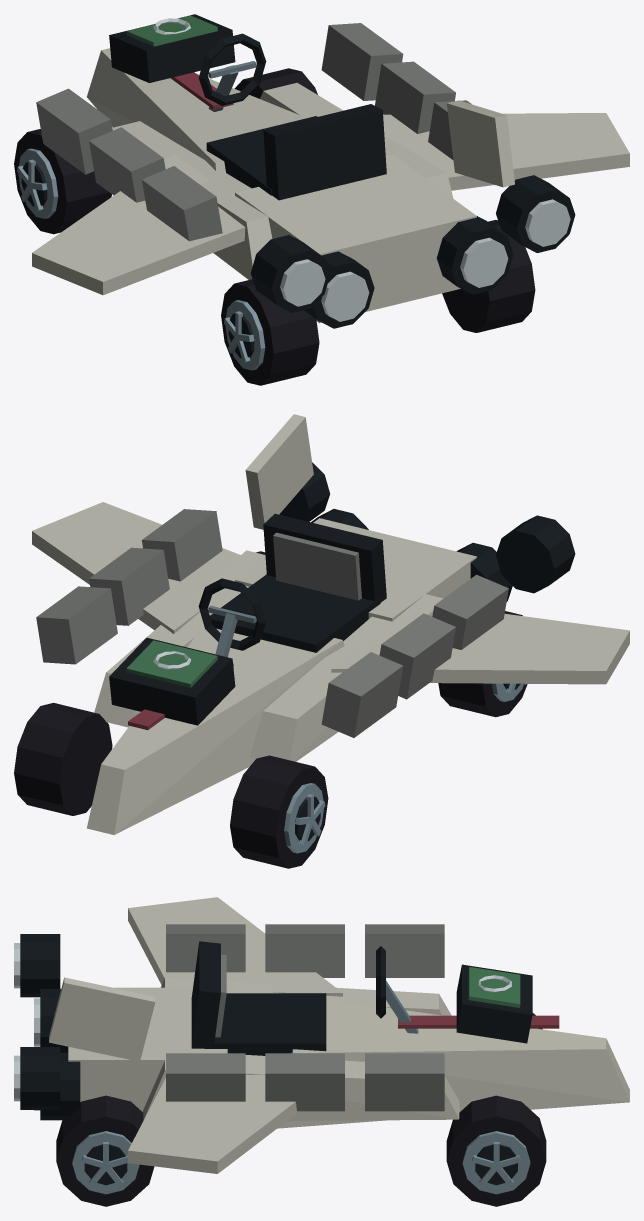
File: kart.glb
3 views of the same model, one above another, from view 1: azimuth 30°, elevation 25°; view 2: azimuth 150°, elevation 25°; view 3: azimuth 270°, elevation 25° (orthographic). The views are drawn at different scales.
Parts seen in each view (by area): view 1: identity-starfighter-starfighter-flight-planform, identity-starfighter-motif-armor, identity-starfighter-driver-cockpit, identity-starfighter-motif-thrusters, wheel-rear-left, identity-starfighter-motif-scanner, wheel-front-left, wheel-rear-right, wheel-front-right; view 2: identity-starfighter-starfighter-flight-planform, identity-starfighter-motif-armor, identity-starfighter-driver-cockpit, wheel-front-left, wheel-front-right, identity-starfighter-motif-scanner, identity-starfighter-motif-thrusters, wheel-rear-left; view 3: identity-starfighter-starfighter-flight-planform, identity-starfighter-motif-armor, identity-starfighter-driver-cockpit, wheel-front-right, wheel-rear-right, identity-starfighter-motif-thrusters, identity-starfighter-motif-scanner.
Boxes of the visible parts, x1,y1,x2,y2 form: identity-starfighter-starfighter-flight-planform: (32, 48, 629, 328); identity-starfighter-motif-armor: (36, 23, 471, 241); identity-starfighter-driver-cockpit: (198, 33, 386, 200); identity-starfighter-motif-thrusters: (250, 175, 575, 312); wheel-rear-left: (221, 279, 319, 385); identity-starfighter-motif-scanner: (109, 14, 235, 82); wheel-front-left: (14, 129, 111, 234); wheel-rear-right: (442, 220, 535, 332); wheel-front-right: (234, 68, 317, 98); identity-starfighter-starfighter-flight-planform: (32, 414, 629, 834); identity-starfighter-motif-armor: (36, 509, 508, 737); identity-starfighter-driver-cockpit: (198, 513, 386, 657); wheel-front-left: (230, 755, 328, 868); wheel-front-right: (14, 702, 112, 815); identity-starfighter-motif-scanner: (109, 637, 235, 725); identity-starfighter-motif-thrusters: (279, 462, 575, 593); wheel-rear-left: (438, 611, 527, 717); identity-starfighter-starfighter-flight-planform: (34, 897, 629, 1173); identity-starfighter-motif-armor: (166, 924, 444, 1111); identity-starfighter-driver-cockpit: (191, 941, 418, 1055); wheel-front-right: (446, 1095, 546, 1206); wheel-rear-right: (56, 1095, 154, 1206); identity-starfighter-motif-thrusters: (14, 934, 60, 1109); identity-starfighter-motif-scanner: (456, 964, 532, 1043).
Bounding box in the file's own units: 3.14 × 1.18 × 3.09.
